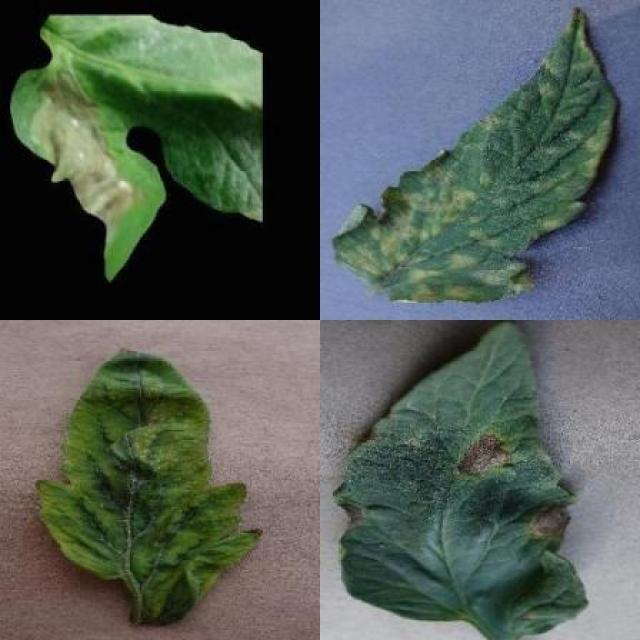Early Blight: (332, 323, 588, 640)
Late Blight: (11, 16, 262, 287)
Leaf Mold: (332, 9, 619, 304)
Yellow Leaf Curl Virus: (34, 346, 262, 624)
